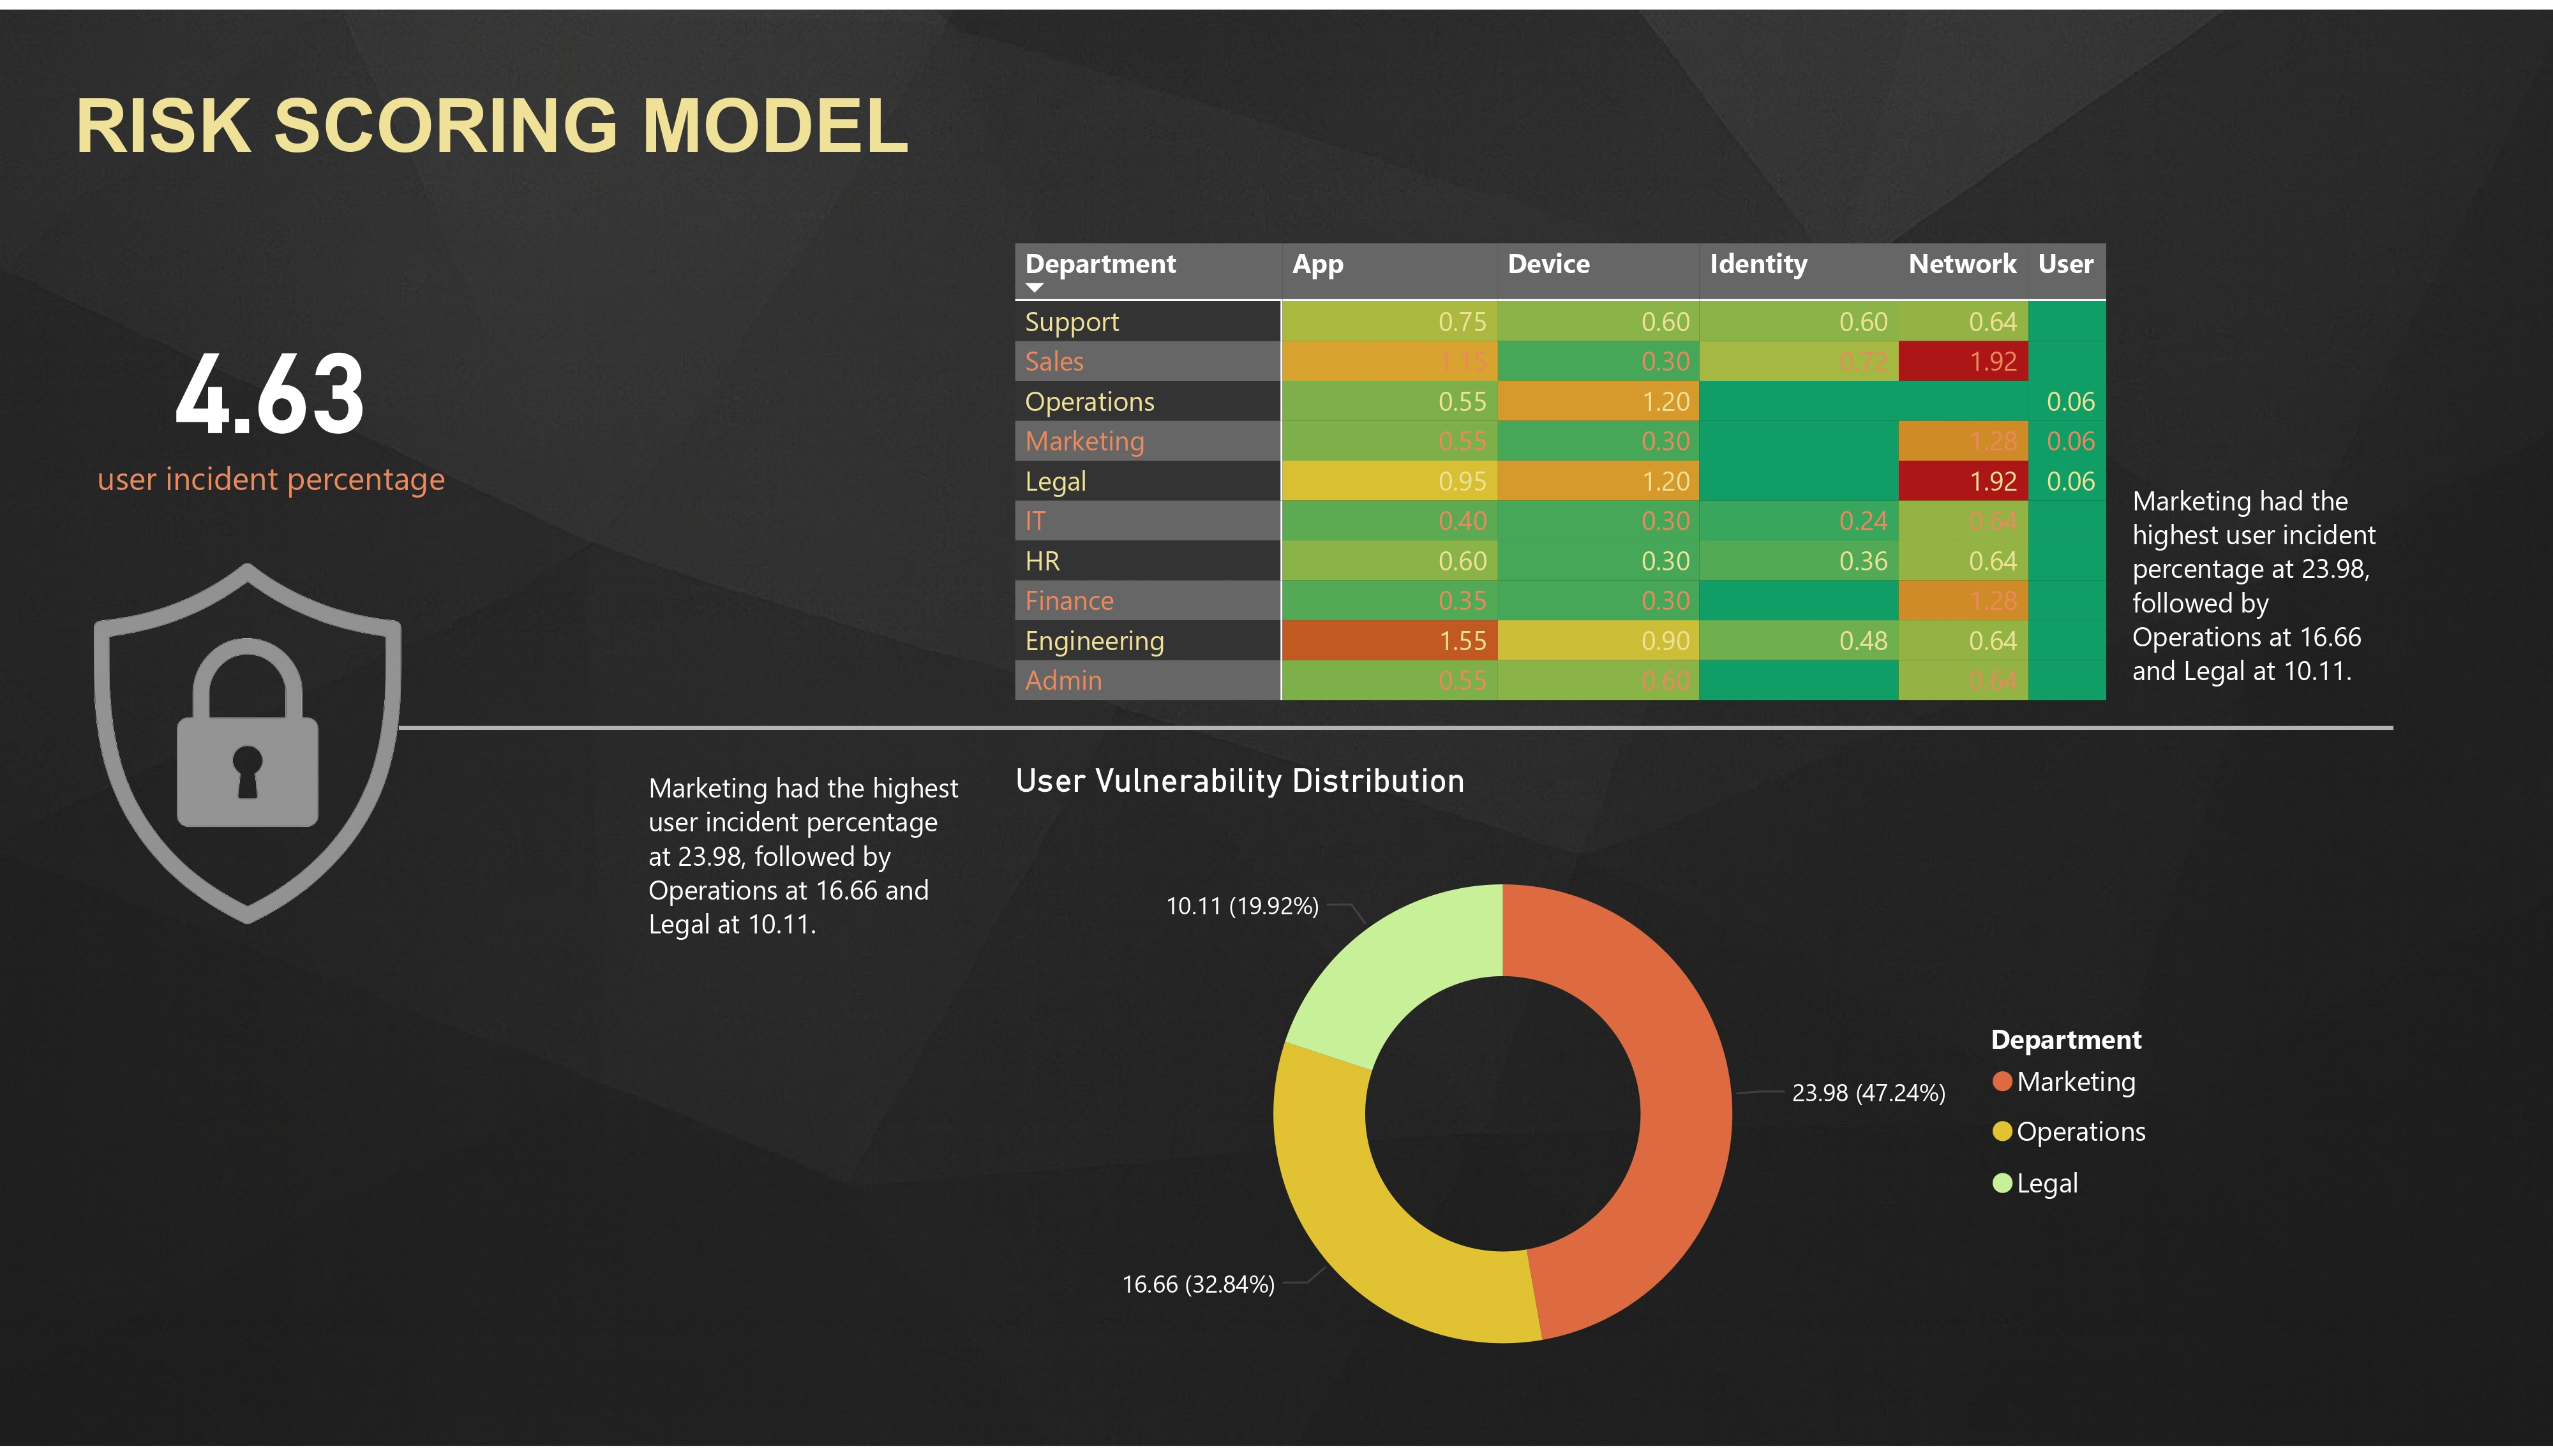

The page's visual inventory and layout, read from the dashboard file:
{"tool":"powerbi","page":{"name":"Risk Scoring Model","canvas":[1280,720],"ordinal":2},"visuals":[{"type":"shape","box":[200,208,1000,304],"z":0},{"type":"textbox","box":[0,16,696,64],"z":1000},{"type":"pivotTable","fields":{"Rows":["Risk Data_Final.Department"],"Columns":["Risk Data_Final.Vector"],"Values":["Sum(Risk Data_Final.Risk Score)"]},"box":[504,112,608,304],"z":2000},{"type":"donutChart","title":"User Vulnerability Distribution","fields":{"Category":["Risk Data_Final.Department"],"Y":["Key Measures.user incident percentage"]},"box":[504,376,592,336],"z":3000},{"type":"card","fields":{"Values":["Key Measures.user incident percentage"]},"box":[24,128,224,136],"z":4000},{"type":"textbox","box":[1064,232,144,224],"z":5000},{"type":"textbox","title":"Weak user incidents","box":[320,376,168,200],"z":6000},{"type":"textbox","box":[32,32,440,64],"z":7000},{"type":"image","box":[0,240,248,256],"z":8000}]}

Visuals, with their boxes in screenshot pixels (x1, y1, x2, y2), scaled from the page's 1280x720 canvas onto the 2553x1456 screenshot:
shape: [399,420,2393,1036]
textbox: [0,33,1388,162]
pivotTable - Risk Data_Final.Department x Risk Data_Final.Vector: [1005,227,2218,841]
"User Vulnerability Distribution" donutChart: [1005,761,2186,1440]
card - Key Measures.user incident percentage: [48,259,495,534]
textbox: [2122,469,2409,922]
"Weak user incidents" textbox: [638,761,973,1165]
textbox: [64,64,941,194]
image: [0,486,495,1003]
